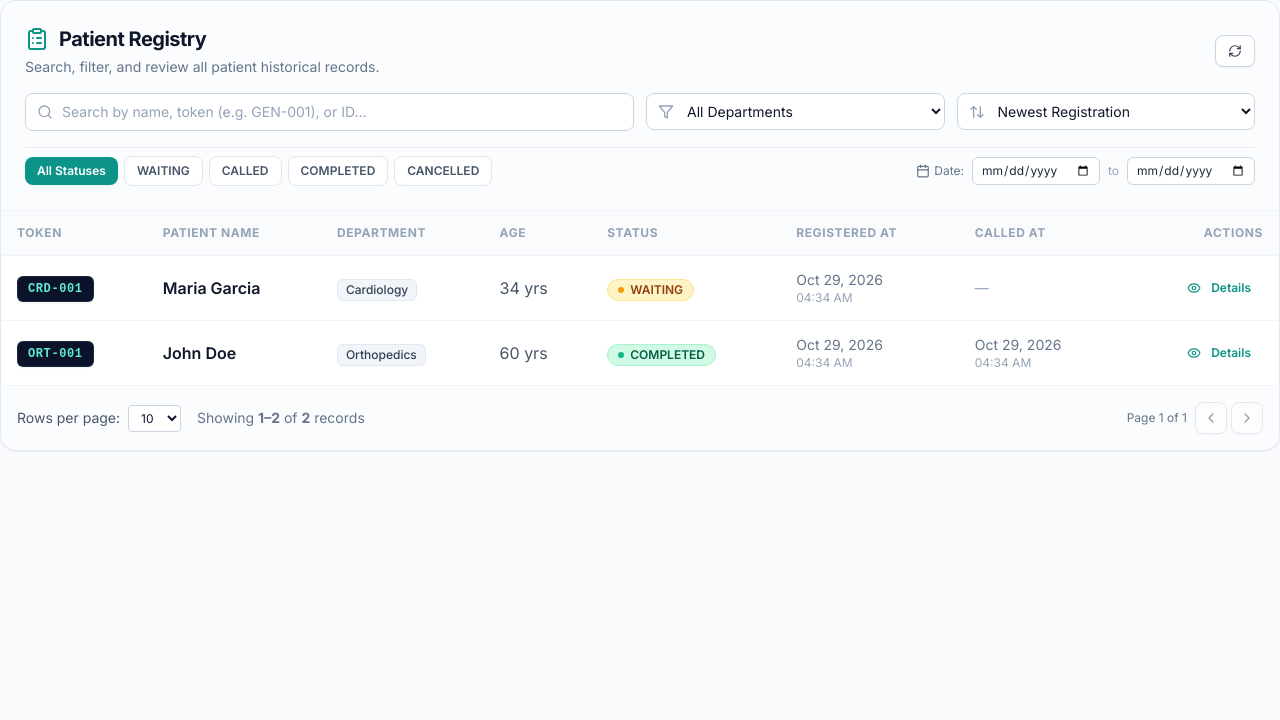
PatientRegistryTable Component › opens patient details modal when Details button is clicked
This screenshot has width=1280, height=720.
Expected: the text "Maria Garcia" is shown, [147,256,321,320]
Step 1. Click the button "Details" in the row of "CRD-001" → (1219, 288), box [1175,272,1263,304]
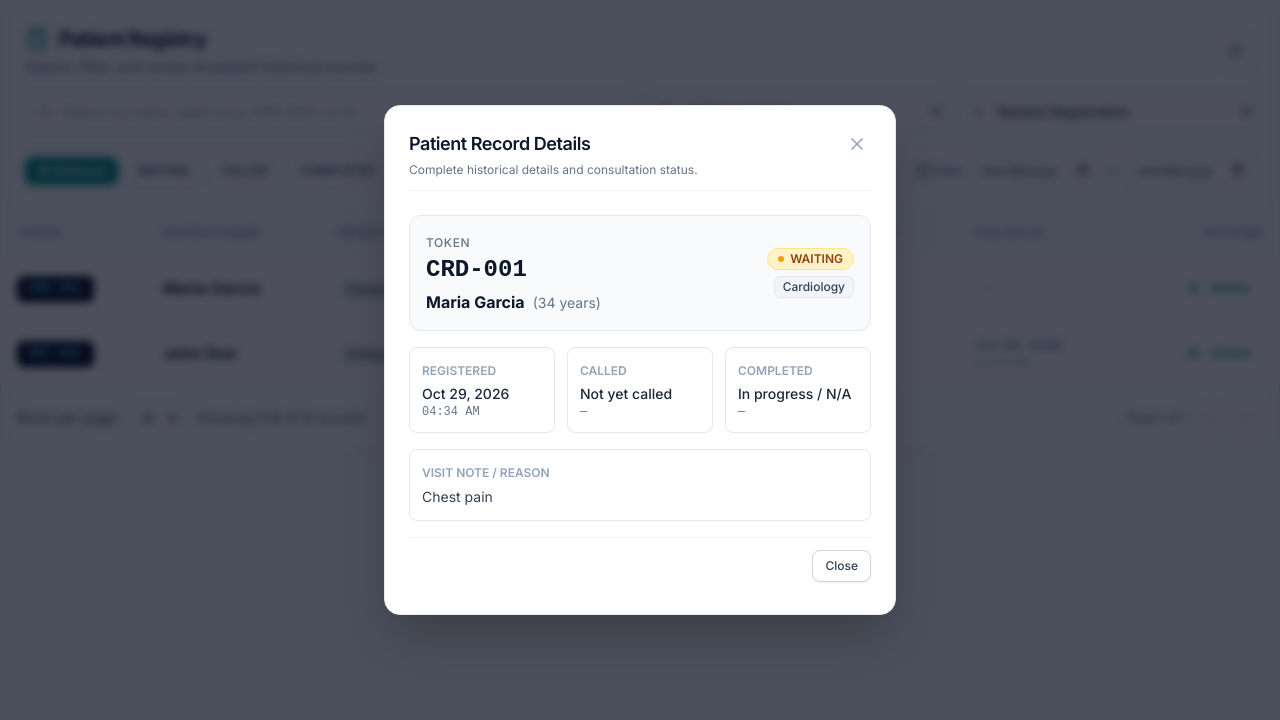
Now the heading "Patient Record Details" is shown, box [409,133,590,154]
Now the text "Chest pain" is shown, box [422,488,493,505]
